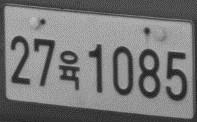0: (111, 45, 134, 96)
1: (85, 42, 109, 93)
2: (8, 35, 31, 86)
5: (164, 51, 188, 101)
7: (32, 37, 57, 87)
8: (137, 48, 161, 98)
육: (57, 49, 81, 91)
